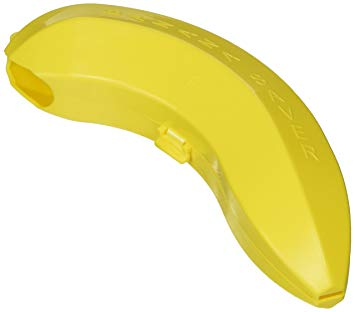banana: (1, 4, 348, 309)
